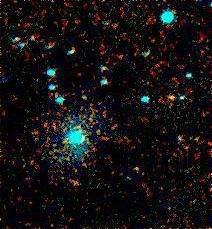star: (68, 81, 98, 111)
